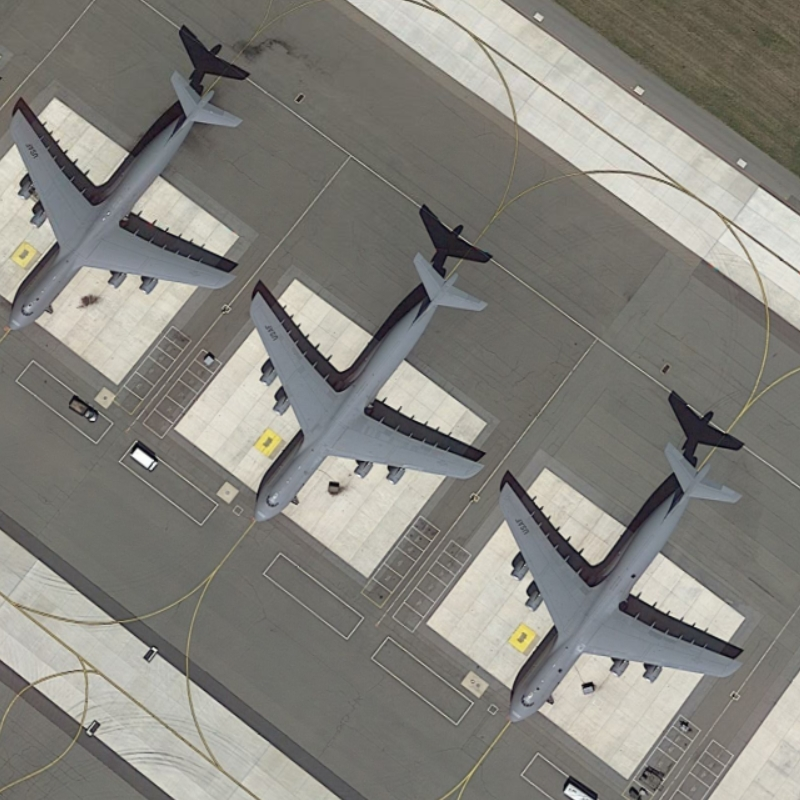A4: (493, 434, 749, 728), (244, 245, 488, 529), (2, 65, 248, 338)
